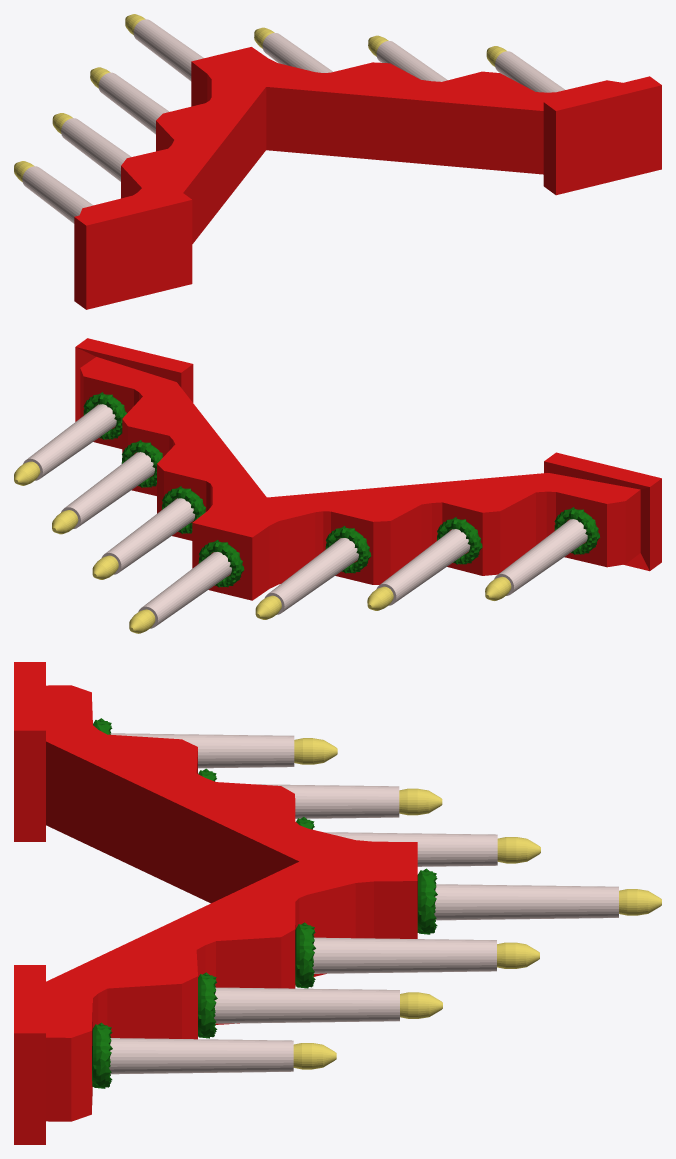
File: ljusstake.fbx
The picture shows the model from 3 angles, top to bottom: view 1: azimuth 30°, elevation 25°; view 2: azimuth 150°, elevation 25°; view 3: azimuth 270°, elevation 25°; orthographic projection. The views are drawn at different scales.
Parts seen in each view (by area): view 1: Cube, Cylinder.003, Cylinder.004, Cylinder.007, Cylinder, Cylinder.012, Cylinder.008, Cylinder.011; view 2: Cube, Cylinder.004, Cylinder.011, Cylinder.003, Cylinder, Cylinder.008, Cylinder.007, Cylinder.012, Torus.003, Torus.002, Torus.001, Torus (+10 smaller); view 3: Cube, Cylinder.011, Cylinder.007, Cylinder.012, Cylinder.008, Cylinder, Cylinder.003, Cylinder.004, Torus.004, Torus, Torus.006, Torus.005 (+7 smaller).
Part boxes in pixels (<box>): Cube: <box>74,47,661,309</box>; Cylinder.003: <box>61,118,131,181</box>; Cylinder.004: <box>98,72,169,134</box>; Cylinder.007: <box>133,19,203,81</box>; Cylinder: <box>22,166,93,223</box>; Cylinder.012: <box>495,51,564,92</box>; Cylinder.008: <box>262,33,332,72</box>; Cylinder.011: <box>376,41,447,81</box>; Cube: <box>75,338,661,600</box>; Cylinder.004: <box>265,538,358,614</box>; Cylinder.011: <box>61,452,154,528</box>; Cylinder.003: <box>376,529,470,605</box>; Cylinder: <box>494,519,587,595</box>; Cylinder.008: <box>101,498,194,574</box>; Cylinder.007: <box>138,552,231,628</box>; Cylinder.012: <box>23,404,116,480</box>; Torus.003: <box>554,507,600,554</box>; Torus.002: <box>437,517,482,564</box>; Torus.001: <box>325,526,371,573</box>; Torus: <box>198,540,244,587</box>; Cube: <box>14,662,417,1144</box>; Cylinder.011: <box>214,987,399,1023</box>; Cylinder.007: <box>434,884,618,920</box>; Cylinder.012: <box>109,1038,293,1074</box>; Cylinder.008: <box>312,937,496,973</box>; Cylinder: <box>110,733,294,768</box>; Cylinder.003: <box>256,784,399,818</box>; Cylinder.004: <box>323,832,497,866</box>; Torus.004: <box>295,922,315,988</box>; Torus: <box>417,868,437,934</box>; Torus.006: <box>92,1022,112,1088</box>; Torus.005: <box>198,972,217,1038</box>.
Size of the model in its own units: 336 by 47.06 by 248.
